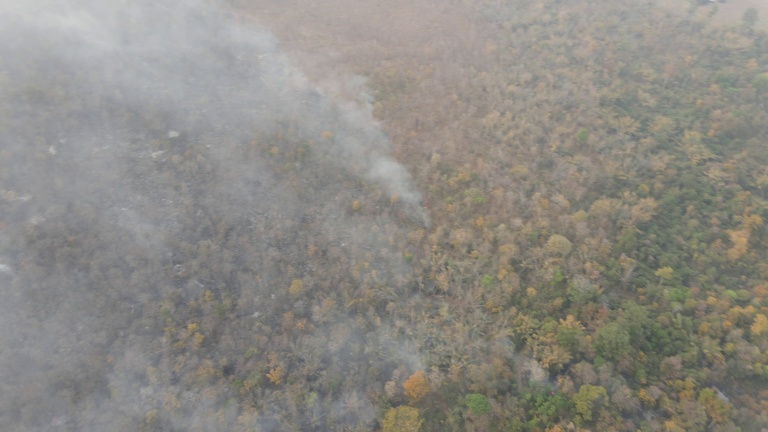smoke: (1, 1, 432, 431), (494, 336, 557, 397)
